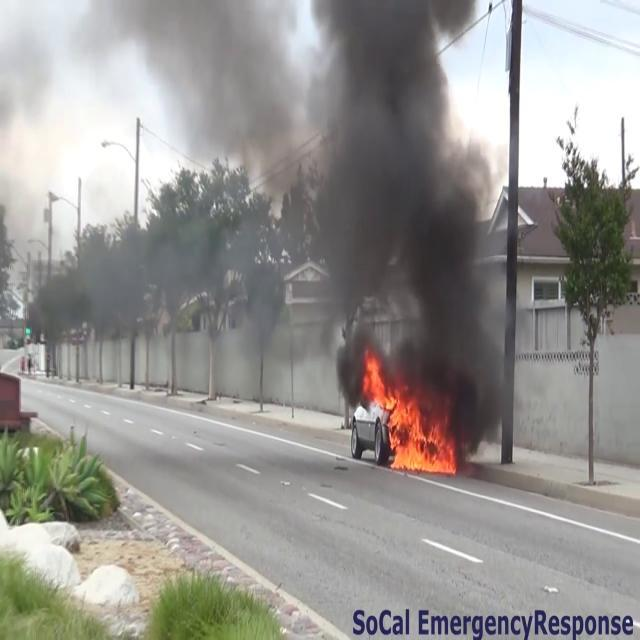Fire: (364, 370, 456, 478)
Smoke: (182, 0, 512, 393)
